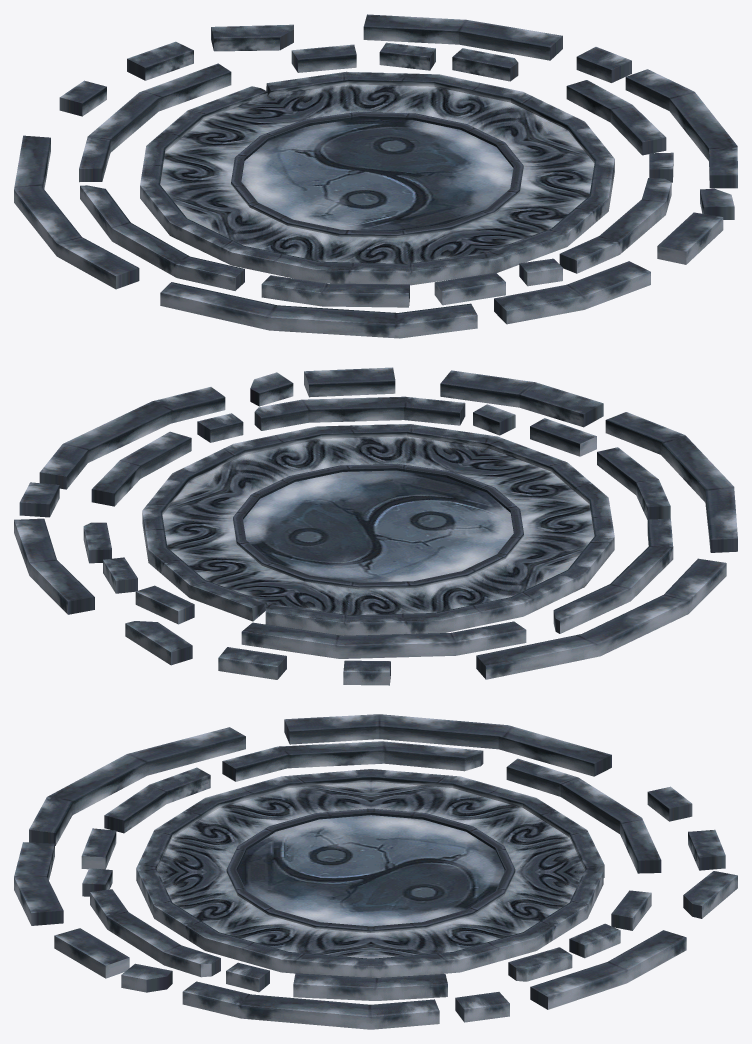
File: Ice_platform01.FBX
3 views of the same model, one above another, from view 1: azimuth 30°, elevation 25°; view 2: azimuth 150°, elevation 25°; view 3: azimuth 270°, elevation 25° (orthographic). The views are drawn at different scales.
Visible parts, largest first — view 1: Cylinder001; view 2: Cylinder001; view 3: Cylinder001.
Boxes of the visible parts, x1,y1,x2,y2 form: Cylinder001: (14,14,737,338); Cylinder001: (14,367,737,685); Cylinder001: (14,714,737,1029).
Bounding box in the file's own units: 558 × 13.44 × 564.
